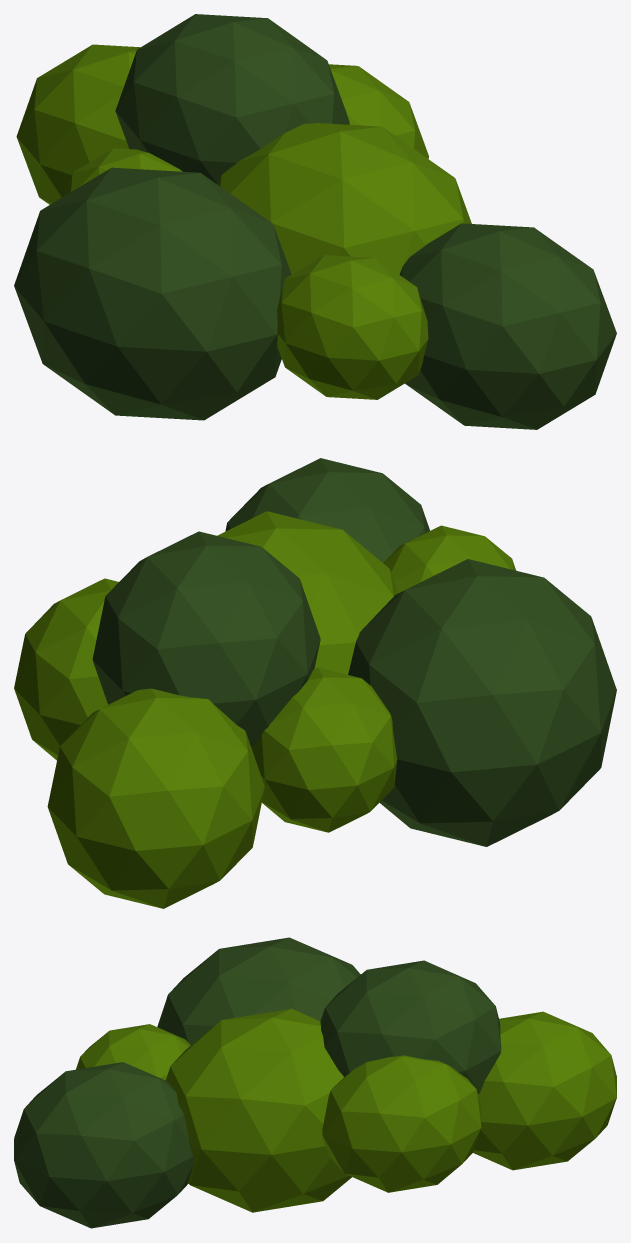
File: Bush_3.glb
3 views of the same model, one above another, from view 1: azimuth 30°, elevation 25°; view 2: azimuth 150°, elevation 25°; view 3: azimuth 270°, elevation 25° (orthographic). The views are drawn at different scales.
Visible parts, largest first — view 1: Bush.003; view 2: Bush.003; view 3: Bush.003.
Part boxes in pixels (x1,y1,x2,y2): Bush.003: (14, 14, 616, 429); Bush.003: (14, 458, 616, 908); Bush.003: (14, 937, 616, 1228).
Size of the model in its own units: 2.06 by 1.26 by 3.02.
